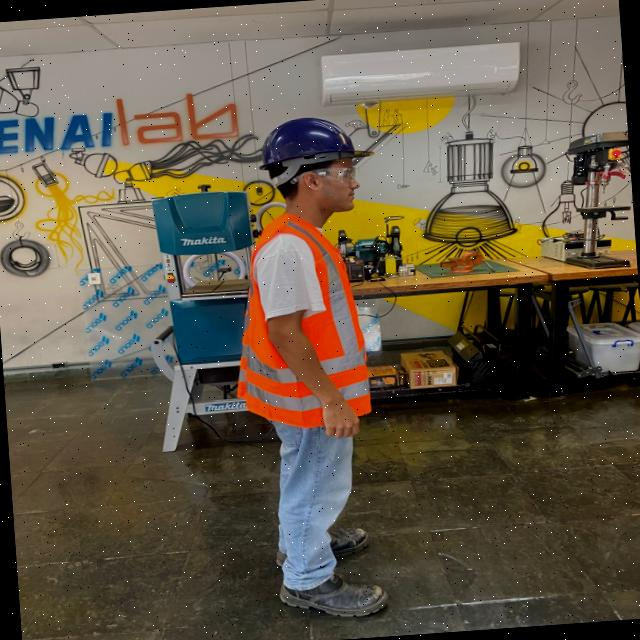BOTA: (280, 566, 388, 620), (277, 524, 369, 566)
CAPACETE: (257, 114, 376, 187)
COLETE: (236, 213, 377, 431)
OCULOS: (290, 165, 358, 185)
SEM LUVA: (316, 388, 367, 440)
